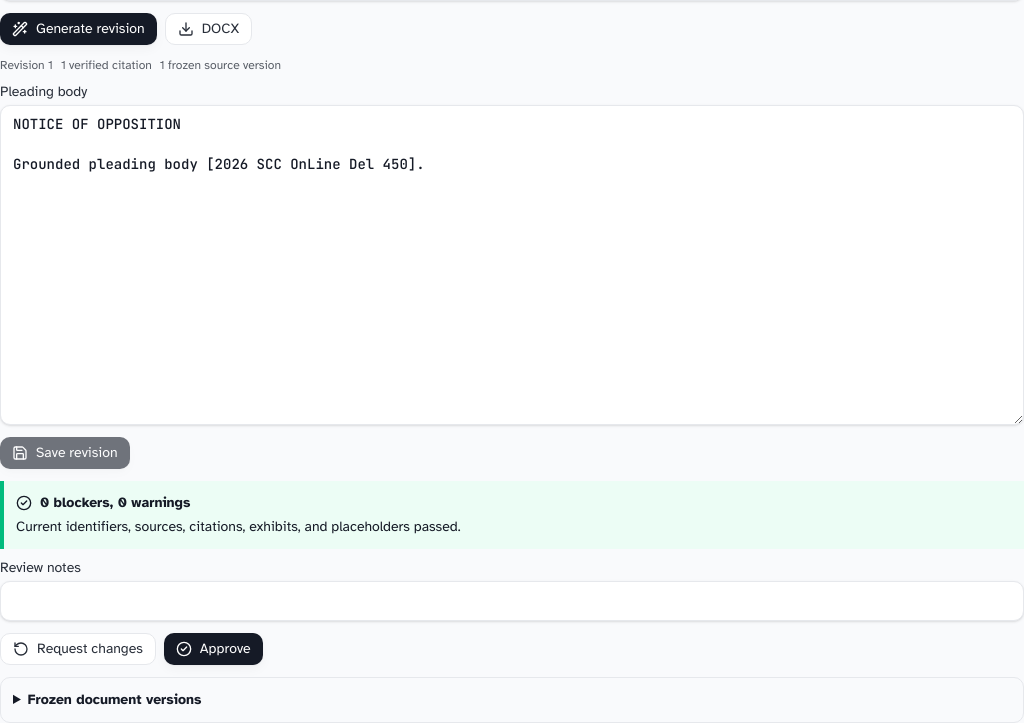
it: IpPleadingWorkspace › refreshes a rejected stale approval without replay (deep link: false)
(page scrolled)
Check: the text "Current identifiers, sources, citations, exhibits, and placeholders passed." is shown, box [16,518,460,535]
Check: the button "Approve" is enabled, box [164,633,263,665]
Type "Retain my review note." into the field labelled "Review notes" at (512, 601), box [0,581,1023,621]
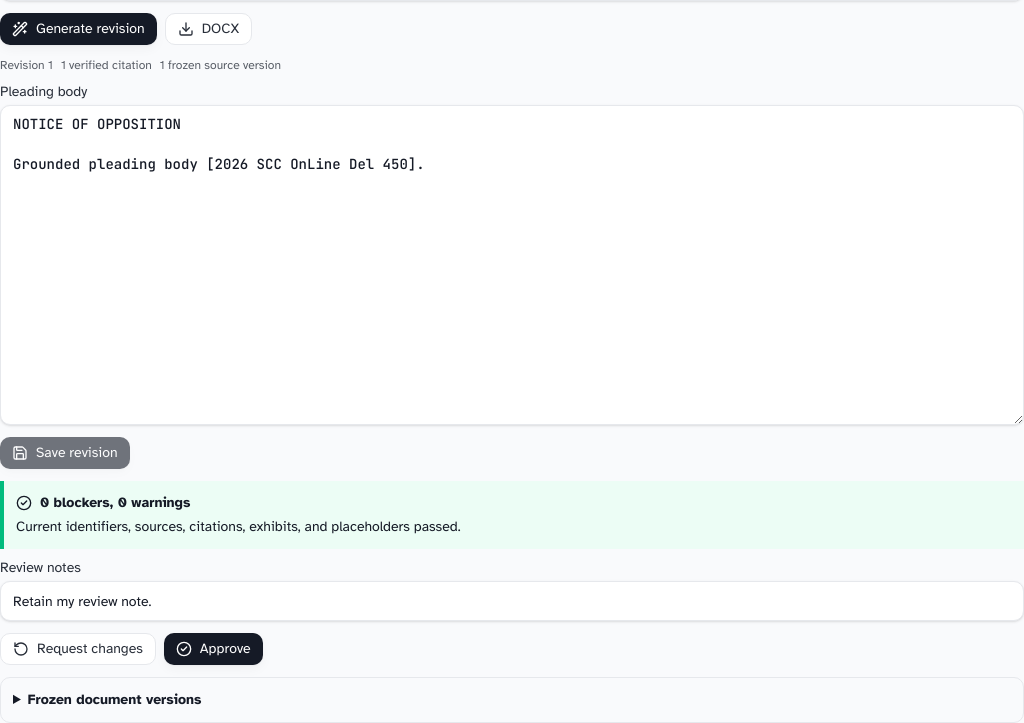
Click the button "Approve" at (213, 649), box [164,633,263,665]
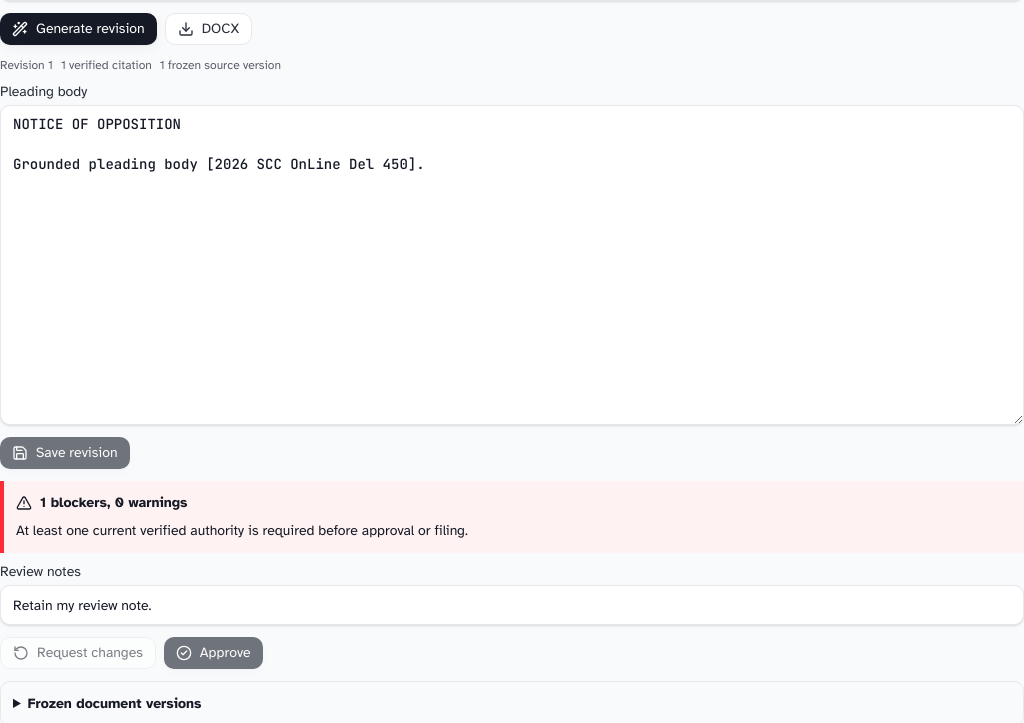
Check: the button "Request changes" is disabled, box [0,637,156,669]
Check: the button "Approve" is disabled
Click the button "Approve" at (213, 653), box [164,637,263,669]
(page scrolled)
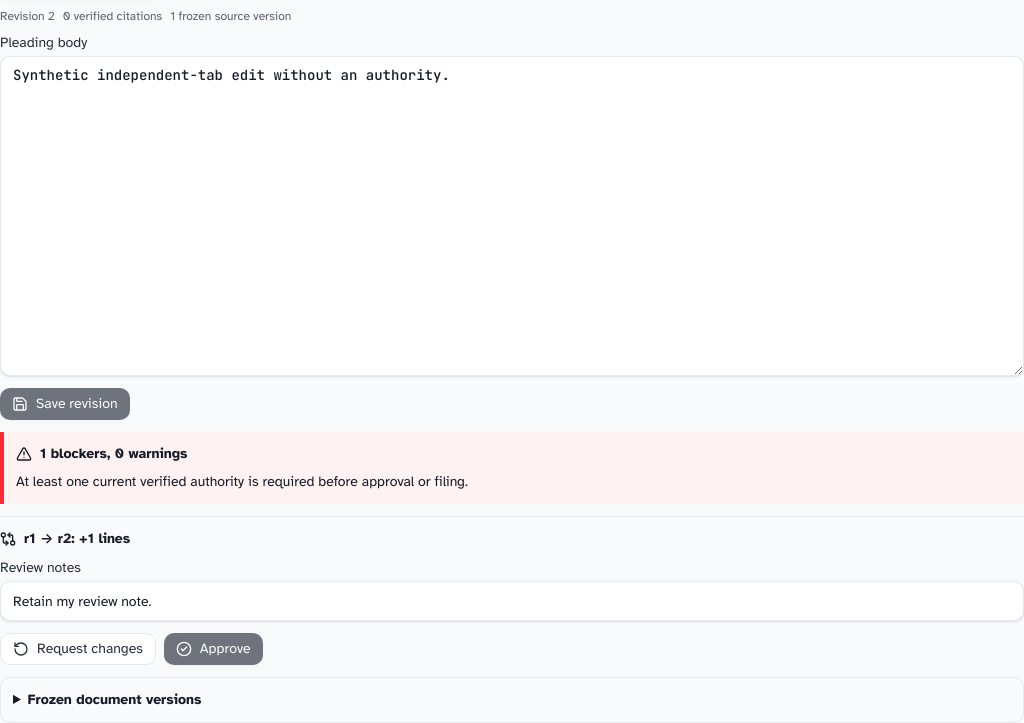
Check: the element with test id "ip-draft-validation" shows "1 blockers", box [0,432,1023,504]
Check: the text "Revision 2" is shown, box [0,8,55,24]
Check: the text "0 verified citations" is shown, box [63,8,162,24]
